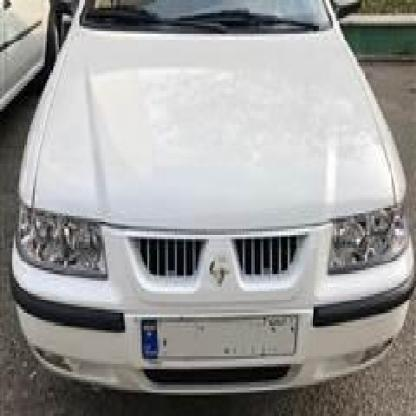Car: (11, 0, 413, 406), (0, 0, 68, 129)
